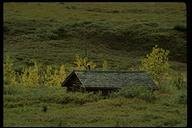grass: (9, 6, 143, 53)
house: (60, 65, 158, 102)
